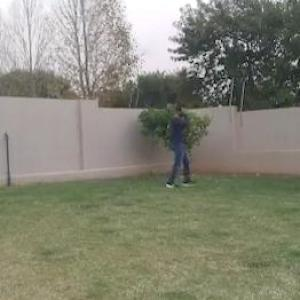follow: (168, 100, 193, 197)
